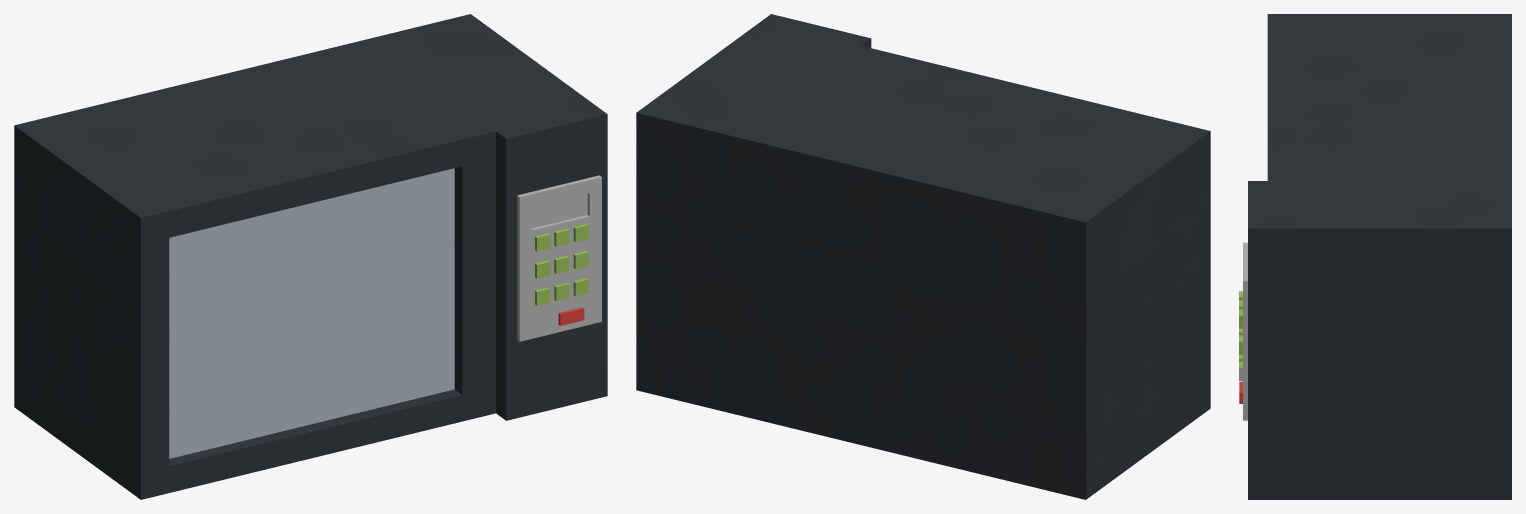
The model's file is Microwave.fbx.
3 renders of one model, left to right at view 1: azimuth 30°, elevation 25°; view 2: azimuth 150°, elevation 25°; view 3: azimuth 270°, elevation 25°, orthographic. The views are drawn at different scales.
Visible parts, largest first — view 1: Microwave; view 2: Microwave; view 3: Microwave.
Part boxes in pixels (left/top/right/bottom): Microwave: left=14, top=14, right=607, bottom=499; Microwave: left=636, top=14, right=1210, bottom=499; Microwave: left=1239, top=14, right=1511, bottom=499.
Size of the model in its own units: 0.6558 by 0.3869 by 0.3526.
